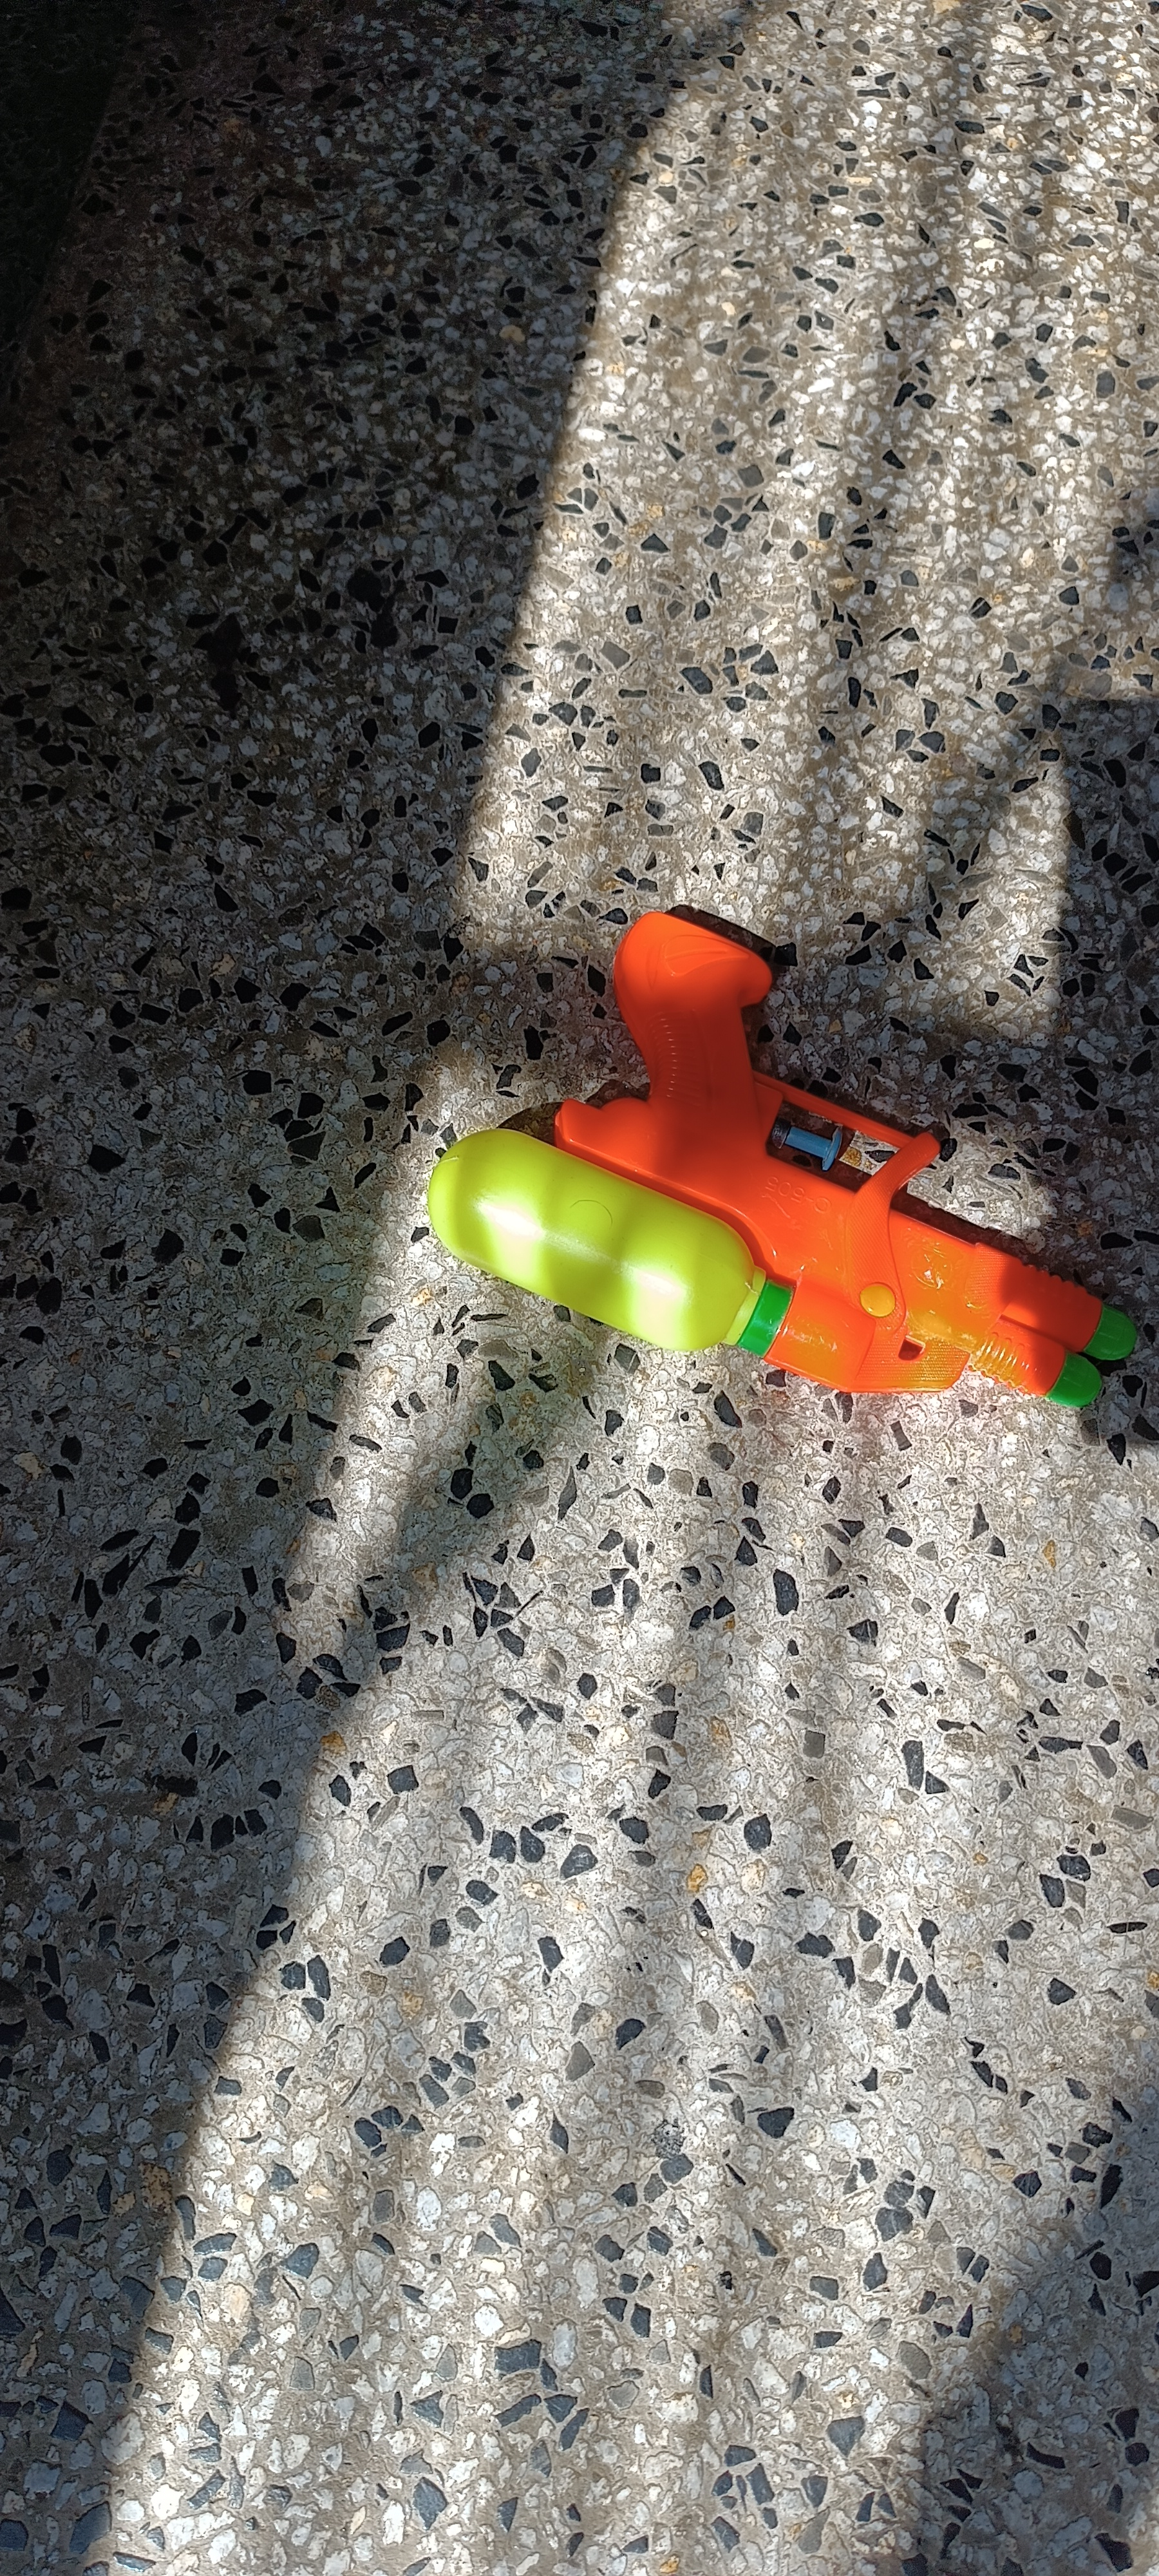Water Gun: (427, 910, 1138, 1408)
